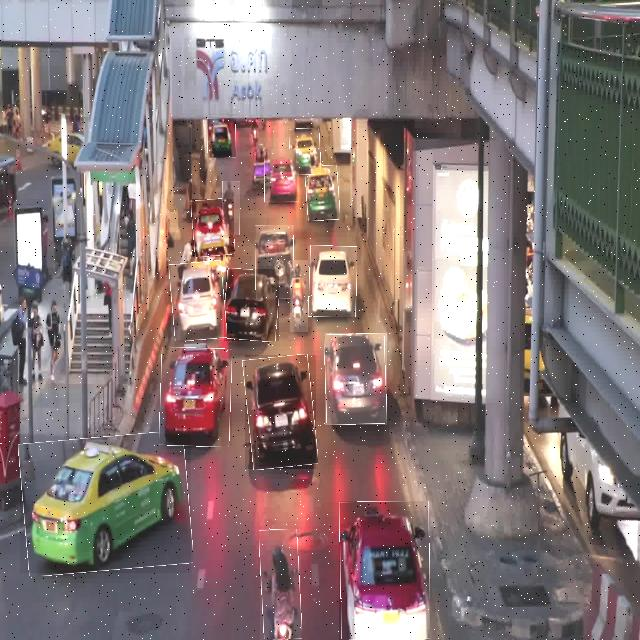Car: (20, 434, 191, 573), (339, 501, 429, 640), (245, 355, 316, 469), (160, 348, 232, 446), (325, 333, 387, 425), (171, 261, 226, 340), (224, 269, 279, 341), (308, 246, 357, 317), (192, 199, 234, 257), (264, 150, 299, 203), (306, 166, 340, 220), (289, 129, 321, 175), (208, 118, 236, 158)
Motorcycle: (260, 529, 301, 640), (290, 260, 308, 332), (222, 181, 240, 235)
Truck: (256, 225, 294, 299)
